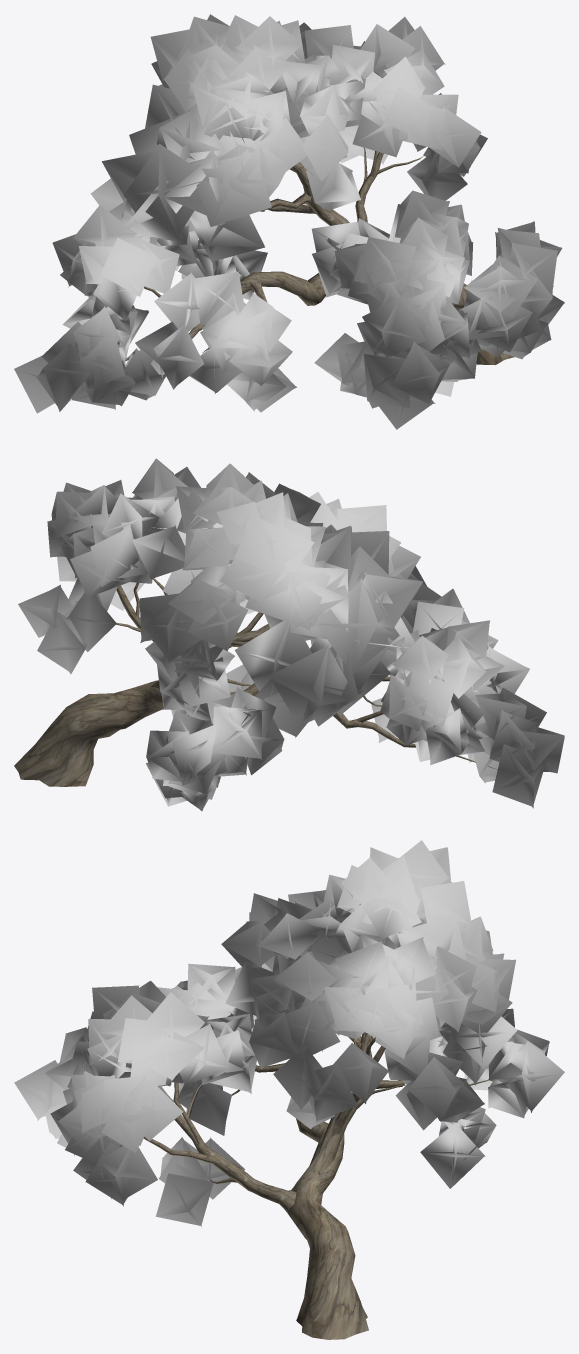
The model's file is SM_Com_Tre_04AM.fbx.
The picture shows the model from 3 angles, top to bottom: view 1: azimuth 30°, elevation 25°; view 2: azimuth 150°, elevation 25°; view 3: azimuth 270°, elevation 25°; orthographic projection.
Parts seen in each view (by area): view 1: SM_Com_Tre_04AM.mo; view 2: SM_Com_Tre_04AM.mo; view 3: SM_Com_Tre_04AM.mo.
Part boxes in pixels (x1,y1,x2,y2): SM_Com_Tre_04AM.mo: (14, 14, 564, 429); SM_Com_Tre_04AM.mo: (14, 458, 564, 811); SM_Com_Tre_04AM.mo: (14, 840, 564, 1339).
Bounding box in the file's own units: 5.91 × 4.08 × 5.48.
